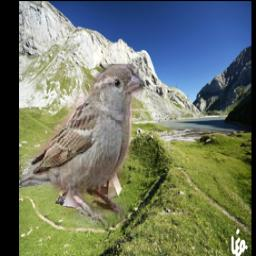Sparrow: (20, 64, 143, 227)
